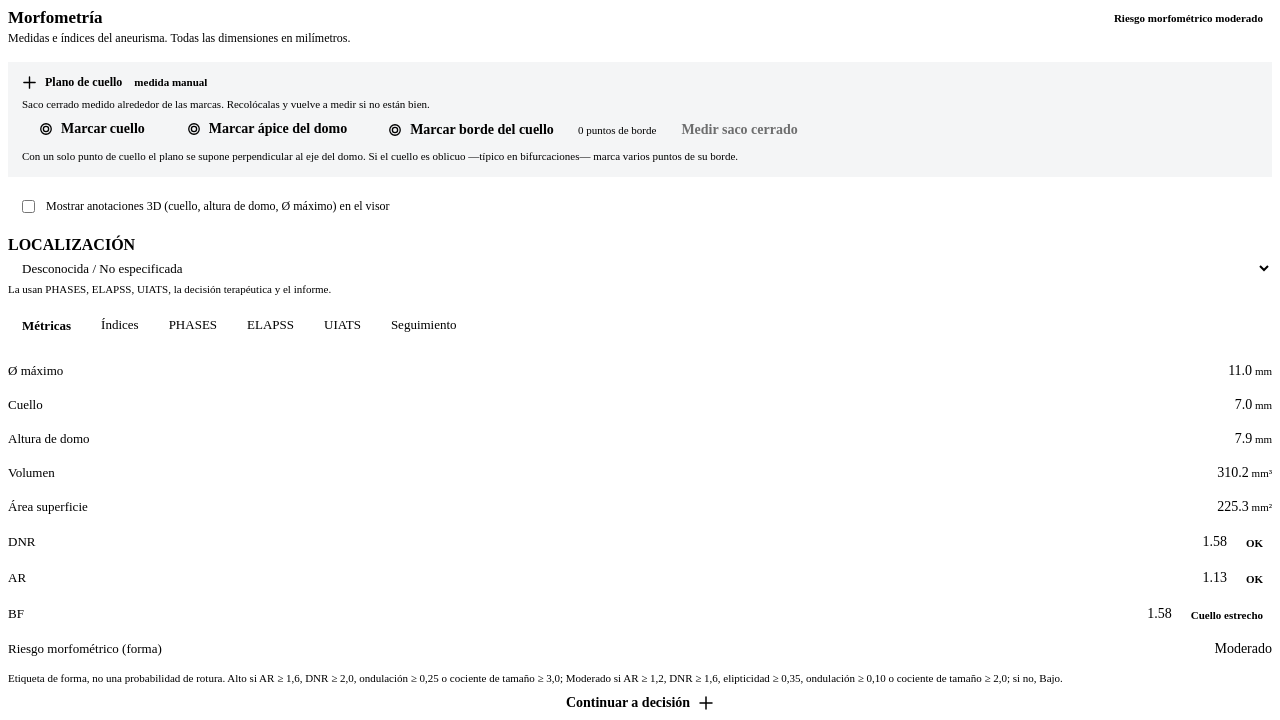
Test case: SR con el cuello estimado › con el borde marcado a mano vuelve a valorarlo
Click the button "Índices". click: (120, 326)
box: [87,309,153,343]
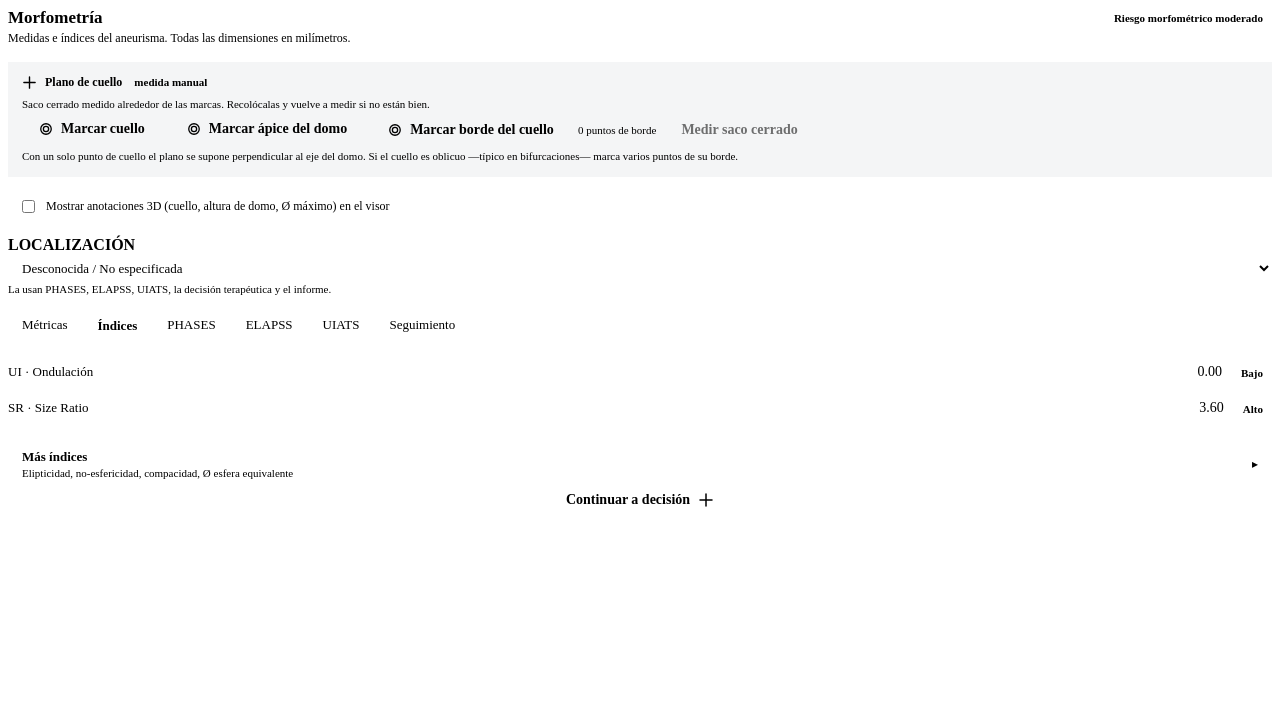
Now the text "3.60" is shown, box [1199,400,1224,416]
